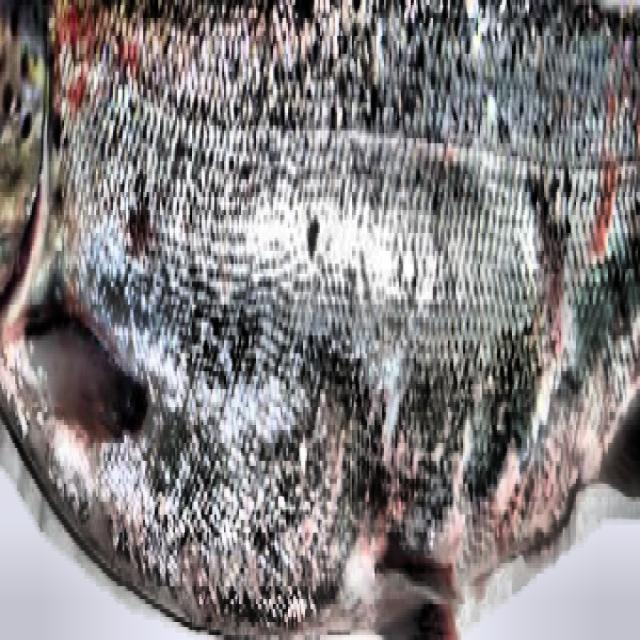mild_red: (0, 0, 639, 635)
